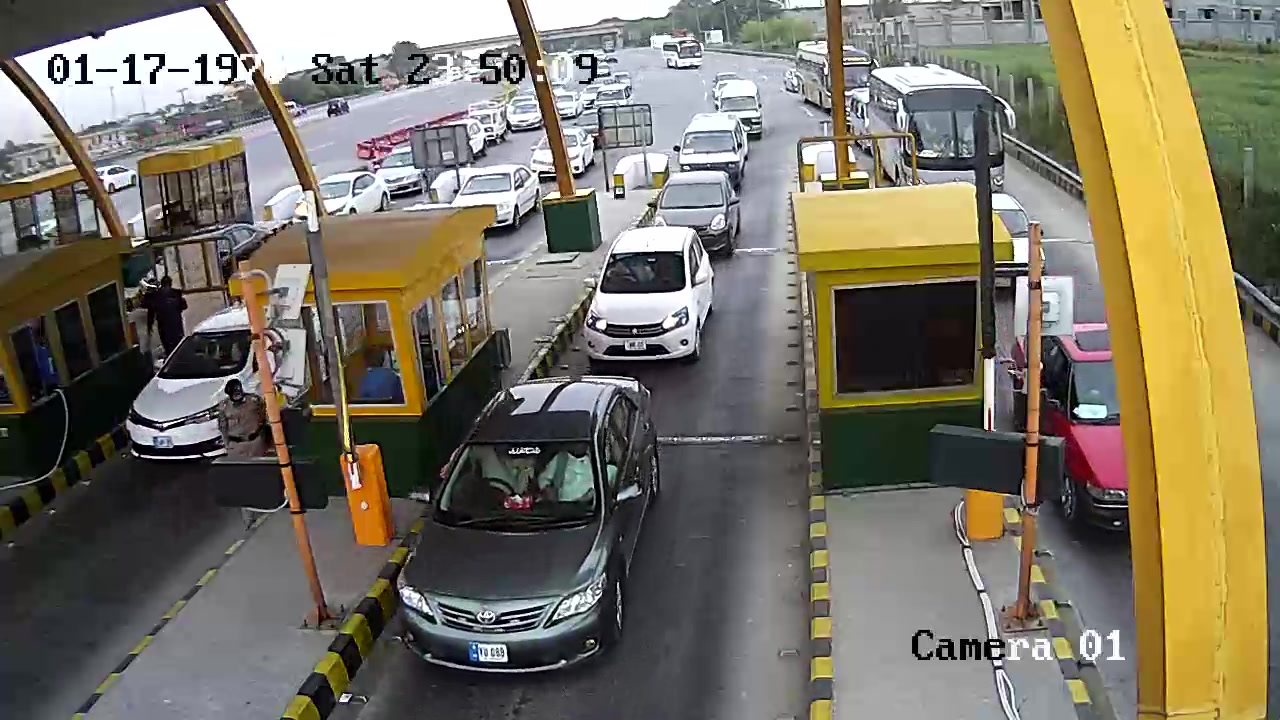F1: (390, 368, 687, 670), (576, 225, 716, 368)
